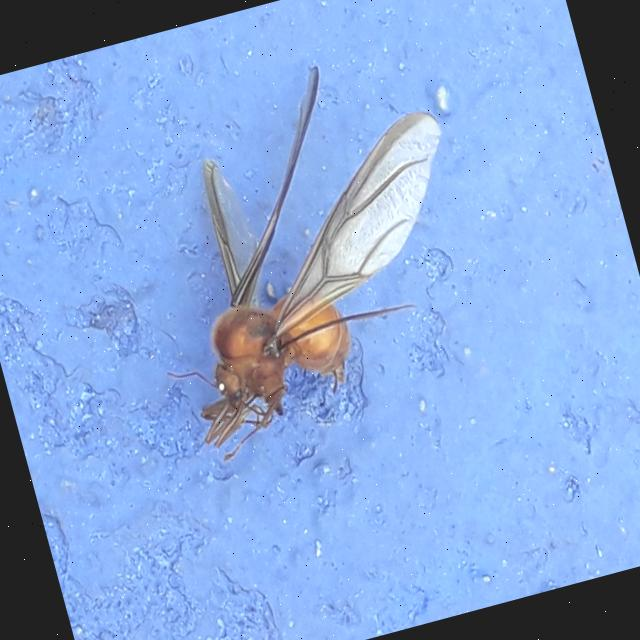Dead-Male-Alate: (99, 35, 512, 472)
